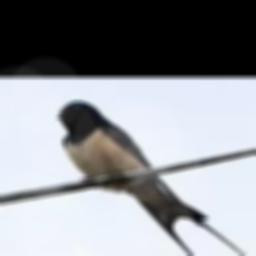Swallow: (56, 101, 252, 256)
